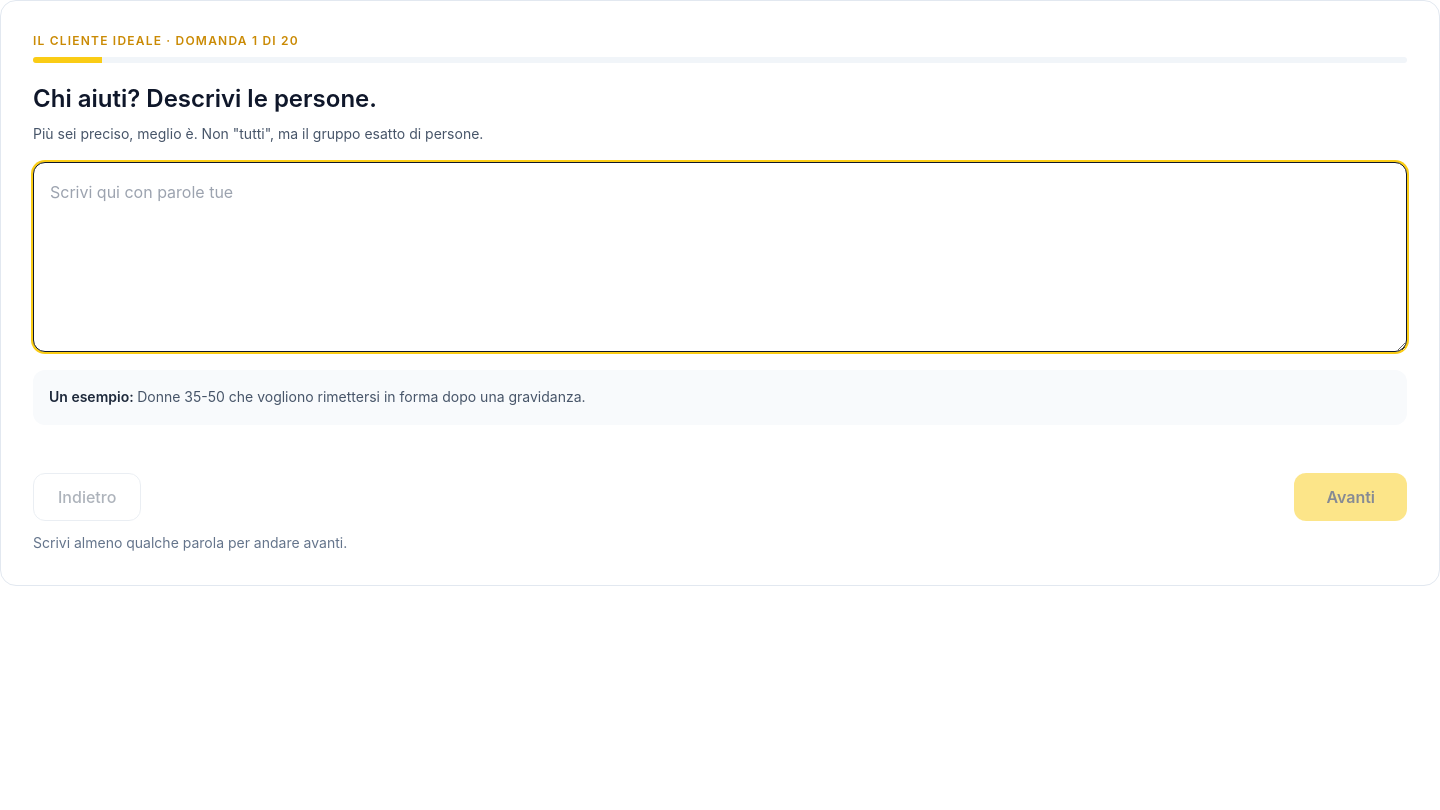
Avanti salva la risposta e passa alla domanda dopo
This screenshot has width=1440, height=810.
Check: the heading "Chi aiuti? Descrivi le persone." is shown, box [33, 84, 377, 113]
Type "Donne dopo i quaranta anni" into the text box.
click(720, 257); type("Donne dopo i quaranta anni")  # box [33, 162, 1407, 352]
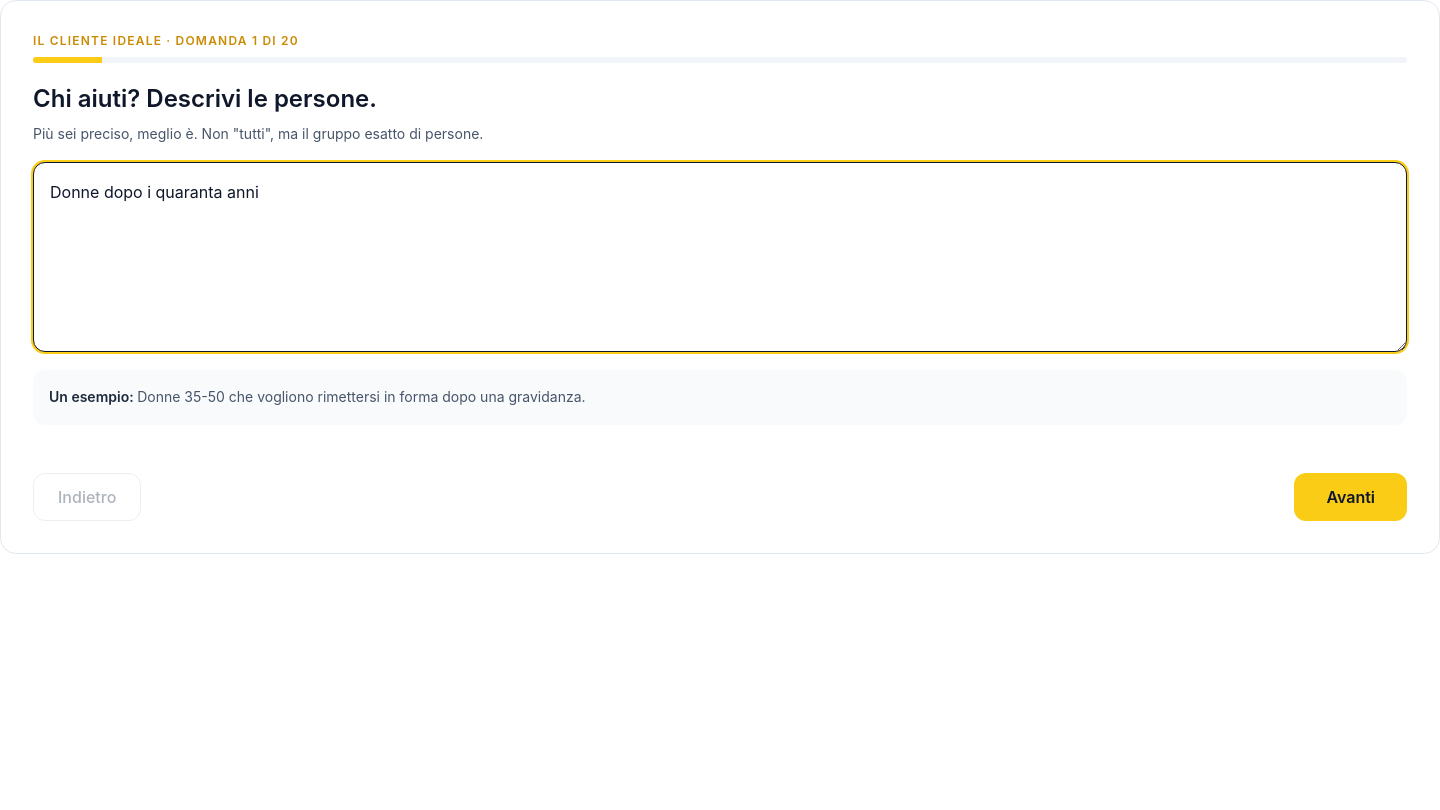
Click the button "Avanti".
click(1351, 496)  # box [1294, 472, 1407, 520]
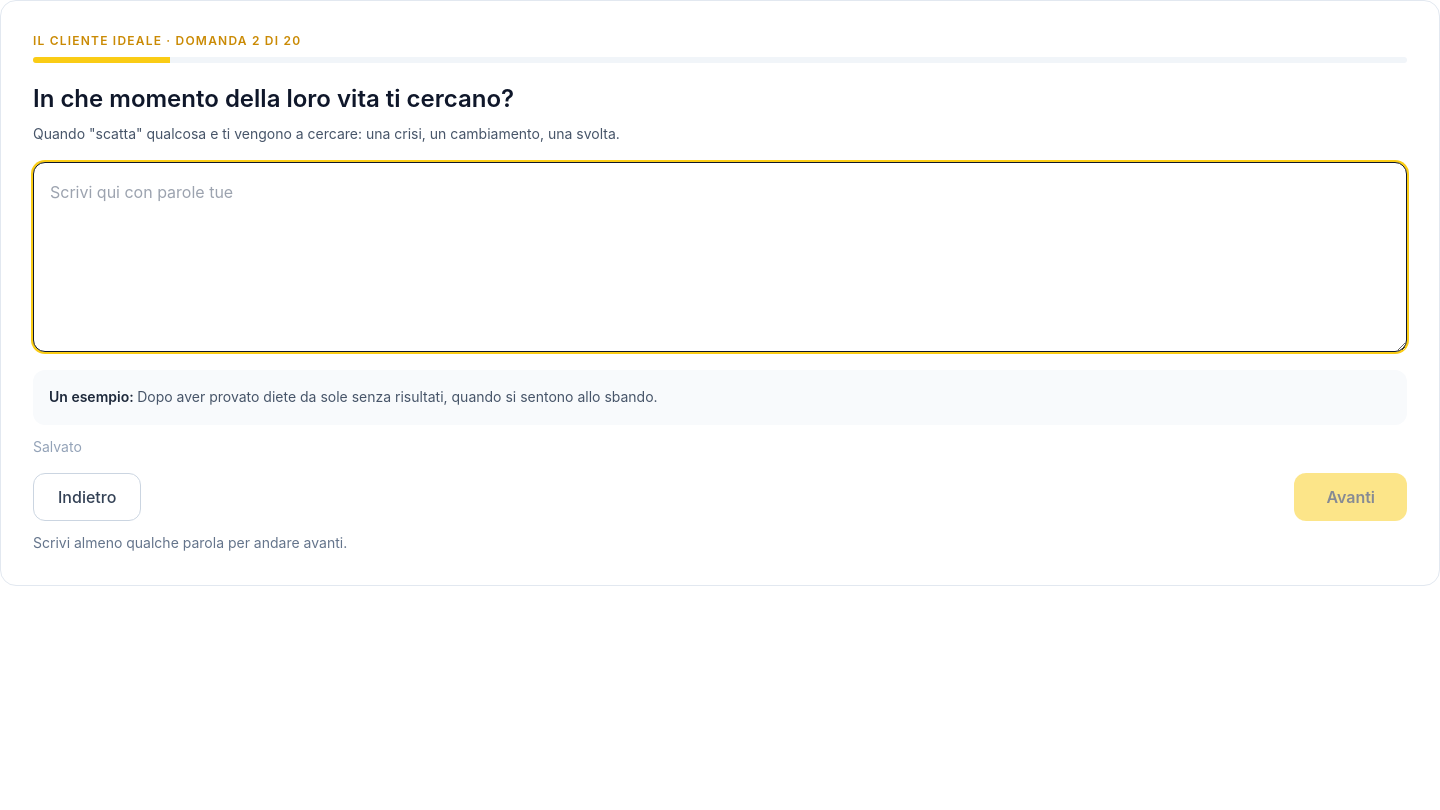
Check: the heading "In che momento della loro vita ti cercano?" is shown, box [33, 84, 514, 113]
